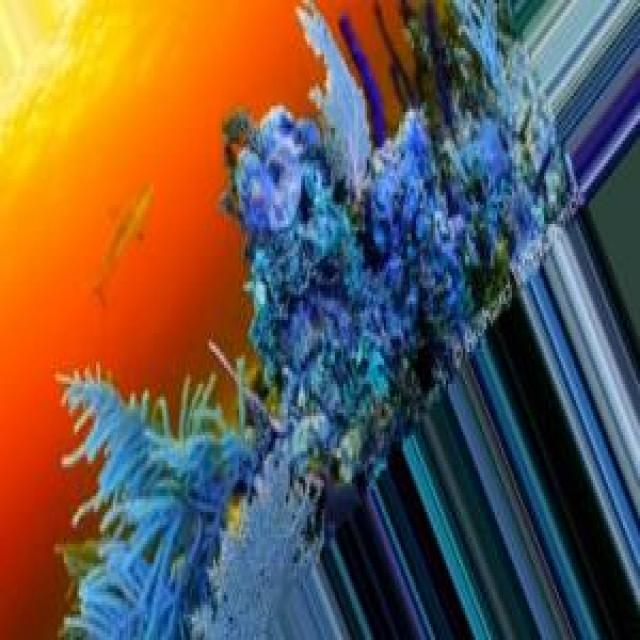Healthy: (332, 1, 549, 369), (227, 107, 404, 484), (59, 372, 268, 640)
